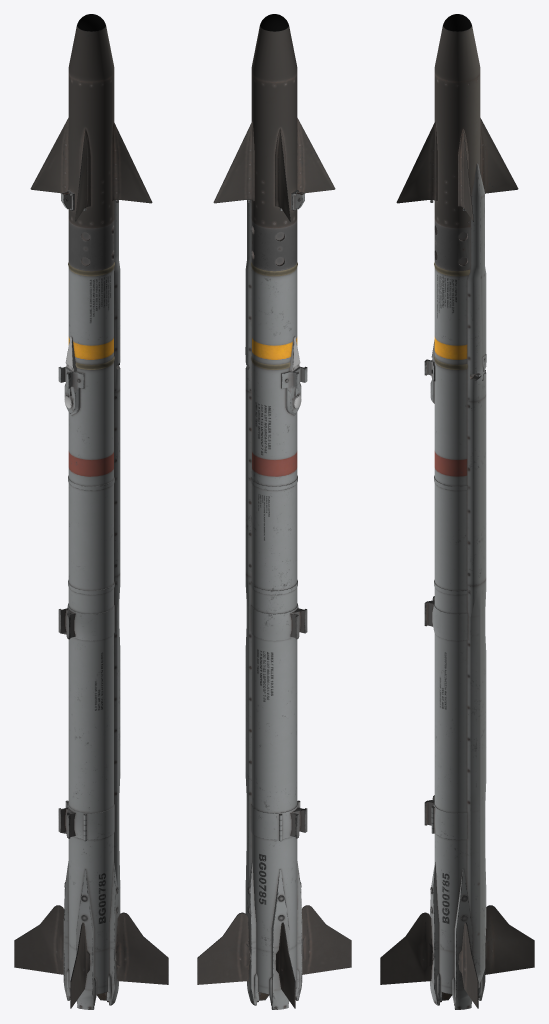
The model's file is aim9x.obj.
The picture shows the model from 3 angles, left to right: view 1: azimuth 30°, elevation 25°; view 2: azimuth 150°, elevation 25°; view 3: azimuth 330°, elevation 25°; orthographic projection.
Visible parts, largest first — view 1: AIM9X_body_f0; view 2: AIM9X_body_f0; view 3: AIM9X_body_f0.
Boxes of the visible parts, x1,y1,x2,y2 form: AIM9X_body_f0: (14,14,168,1009); AIM9X_body_f0: (197,14,351,1009); AIM9X_body_f0: (380,14,534,1009).
Size of the model in its own units: 0.3157 by 3.02 by 0.3156.
